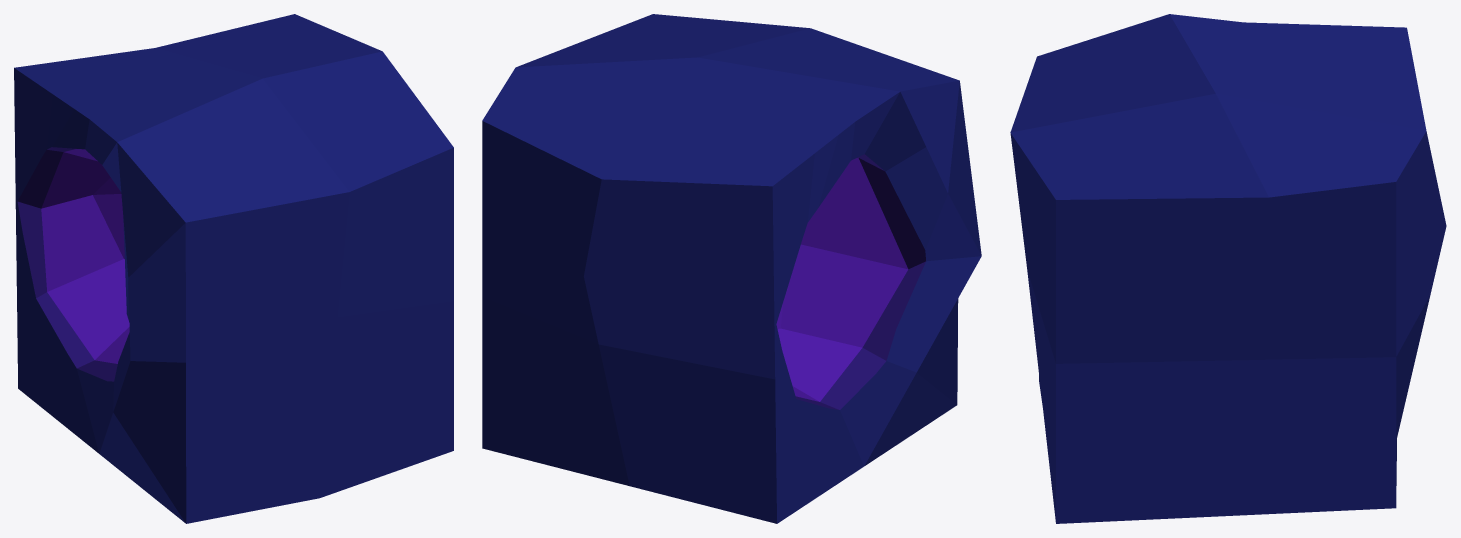
The model's file is DeformedCube (1).fbx.
3 renders of one model, left to right at view 1: azimuth 30°, elevation 25°; view 2: azimuth 150°, elevation 25°; view 3: azimuth 270°, elevation 25°, orthographic. The views are drawn at different scales.
Visible parts, largest first — view 1: Cube; view 2: Cube; view 3: Cube.
Boxes of the visible parts, box(x1,y1,x2,y2) form: Cube: box(14, 14, 453, 523); Cube: box(482, 14, 981, 523); Cube: box(1010, 14, 1446, 523).
Bounding box in the file's own units: 249 × 248 × 256.
